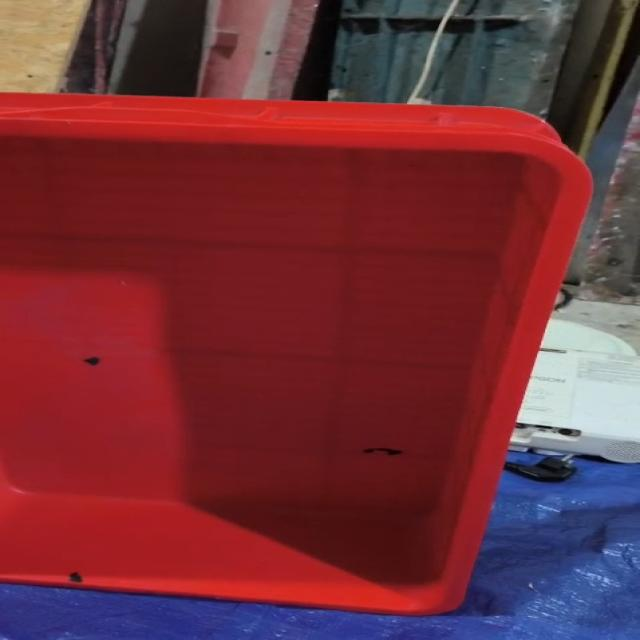red plastic box: (0, 92, 593, 616)
